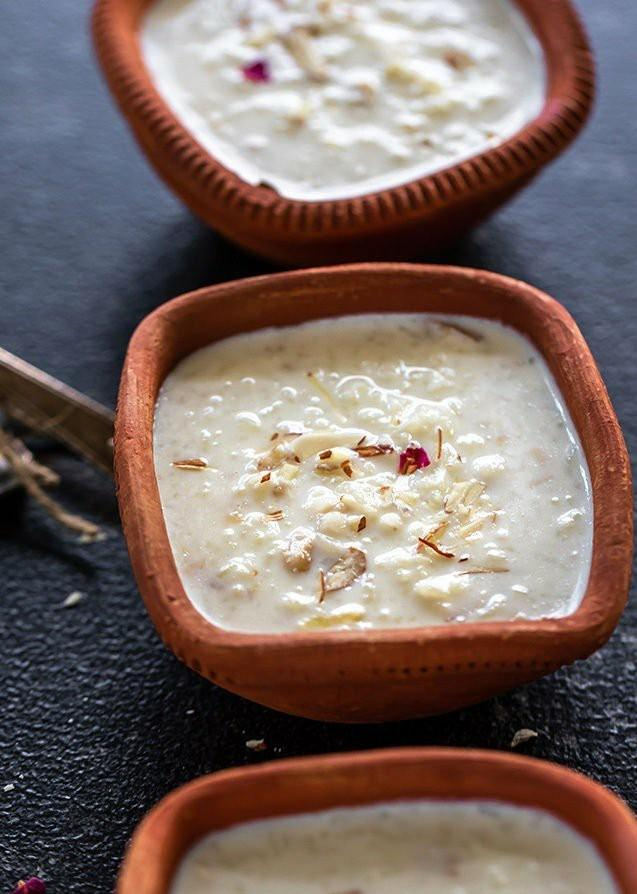Kheer: (155, 313, 597, 632), (144, 0, 551, 195), (177, 799, 623, 894)
